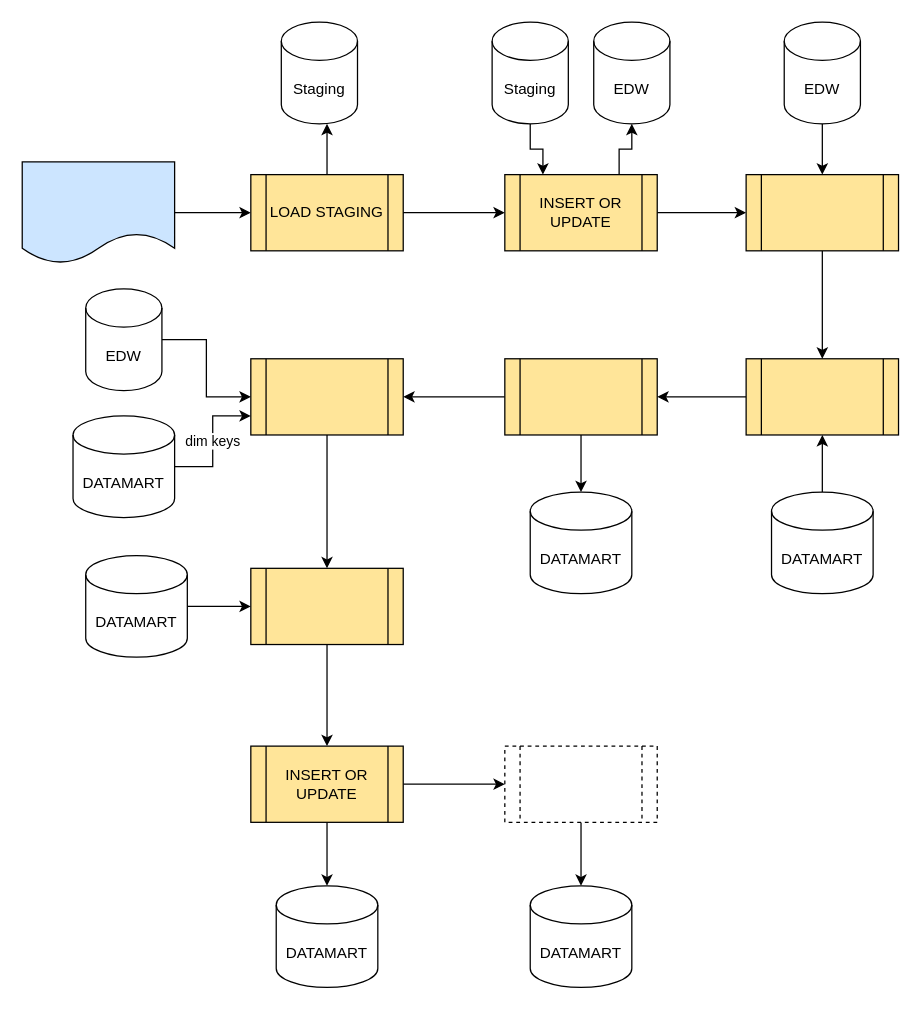
This 921x1010 diagram has some shape labels left out. The shapes that lost their labels are listed below. From the top down, each one's box as (x1, y1, x2, y2) in pixels, then its label:
(21, 161, 175, 264): MOVEMENTS
(745, 173, 899, 251): CALCULATE DIMS
(250, 358, 403, 435): CALCULATE FACTS
(504, 358, 657, 435): INSERT NEW DIMS
(745, 358, 899, 435): COMPARE DIMS
(250, 567, 403, 645): COMPARE FACTS
(504, 745, 657, 822): DELETE (TODO)
